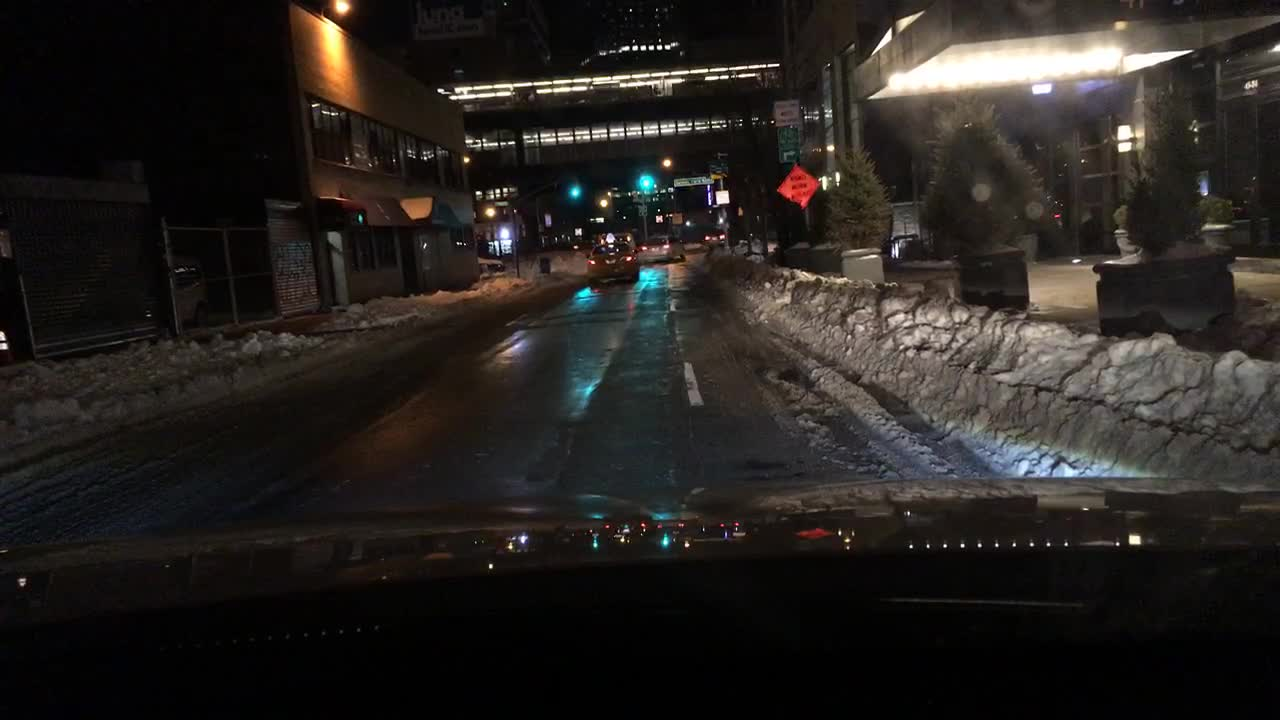car: (587, 241, 641, 283), (642, 231, 690, 267)
traffic light: (635, 170, 663, 206)
